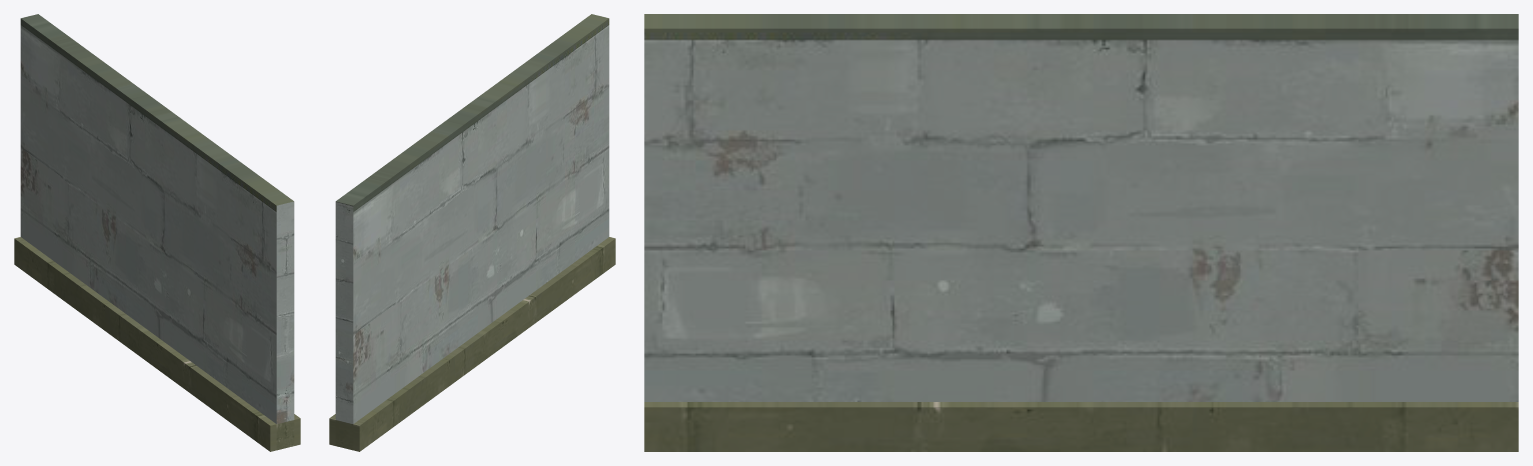
Rendered from Wall_Upper.fbx.
3 views of the same model, side by side, from view 1: azimuth 30°, elevation 25°; view 2: azimuth 150°, elevation 25°; view 3: azimuth 270°, elevation 25° (orthographic). The views are drawn at different scales.
Parts seen in each view (by area): view 1: Wall_Medium.007; view 2: Wall_Medium.007; view 3: Wall_Medium.007.
Boxes of the visible parts, <box> form: Wall_Medium.007: <box>14,14,300,451</box>; Wall_Medium.007: <box>329,14,615,451</box>; Wall_Medium.007: <box>644,14,1518,451</box>.
Size of the model in its own units: 0.4076 by 3.14 by 5.96.
